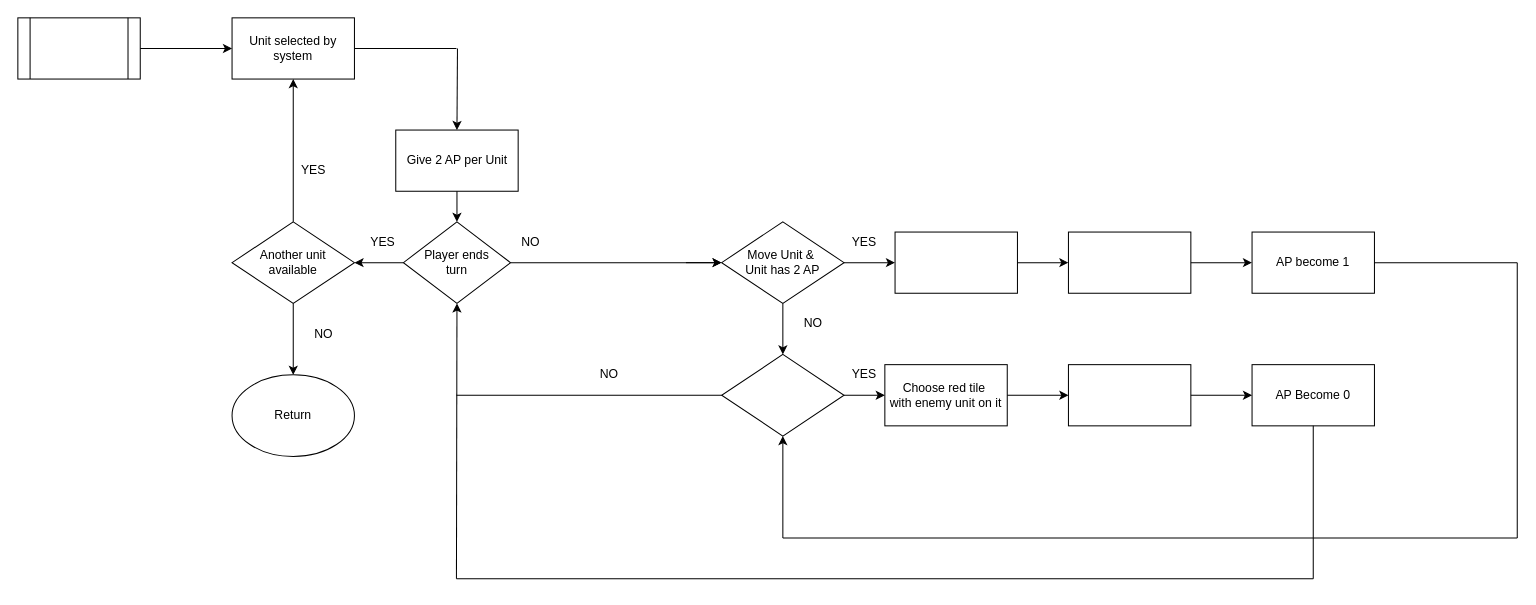
Image size: 1536x605. Some labels were removed from this diagram. The shapes that lost their labels are listed below. From the top down, each one's centre as x and y in pixels, then its label:
At point (78, 48): "Player Turn".
At point (955, 262): "Choose blue tile".
At point (1129, 262): "Unit moves".
At point (782, 394): "Unit Attacks & Unit has >= 1 AP".
At point (1129, 395): "Unit attacks".
